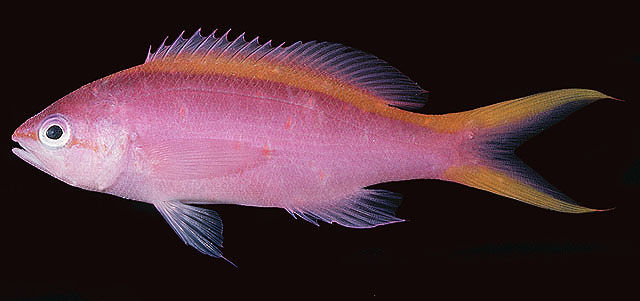fish: (11, 27, 624, 269)
